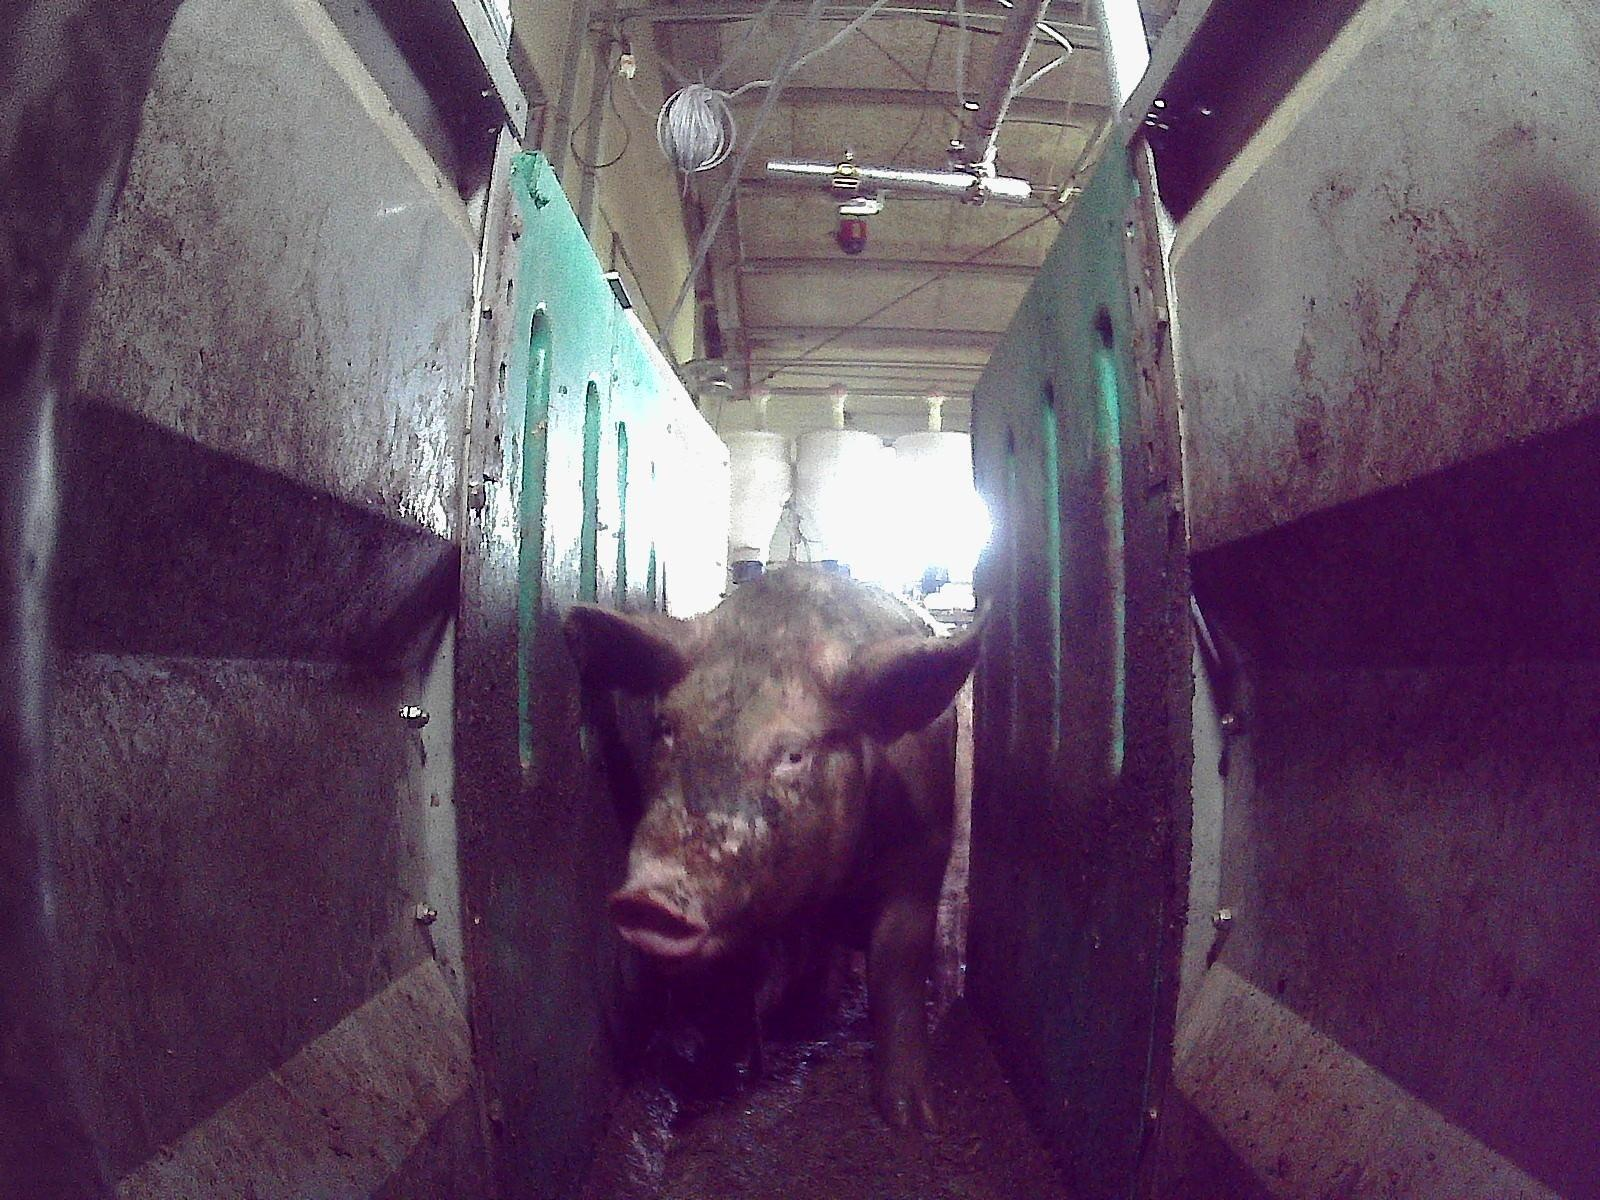Face: (606, 609, 863, 969)
